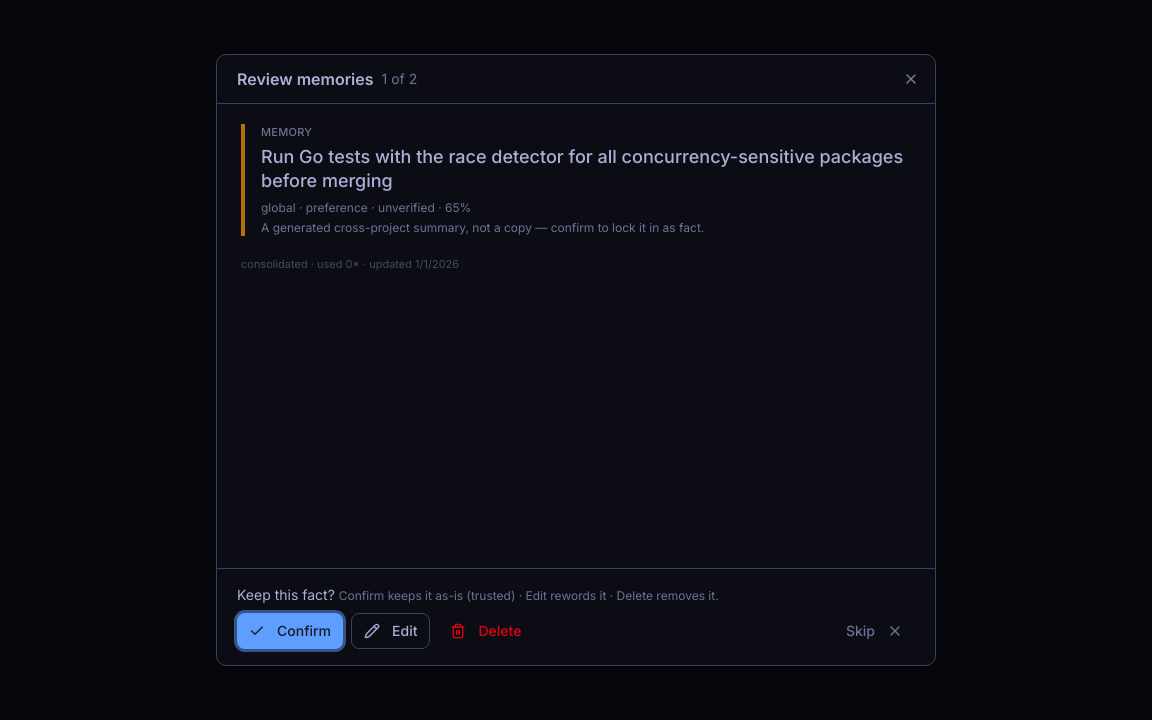
it: MemoryReview › shows full (untruncated) text, confirms, advances, and ends
Expected: the text "Run Go tests with the race detector for all concurrency-sensitive packages before merging" is shown, [261,146,903,191]
Expected: the text "1 of 2" is shown, [382,69,417,89]
Click the button "Confirm".
click(290, 631)  # box [237,613,343,649]
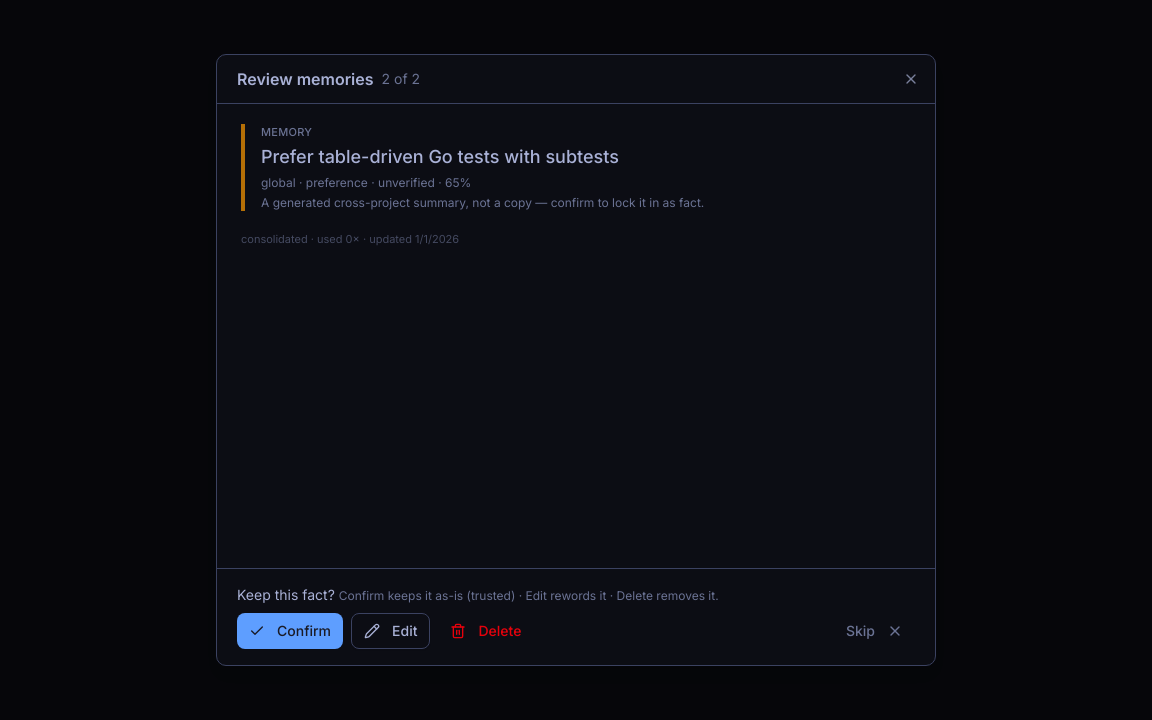
Result: the text "2 of 2" is shown at [382,69,420,89]
Click the button "Confirm".
click(290, 631)  # box [237,613,343,649]
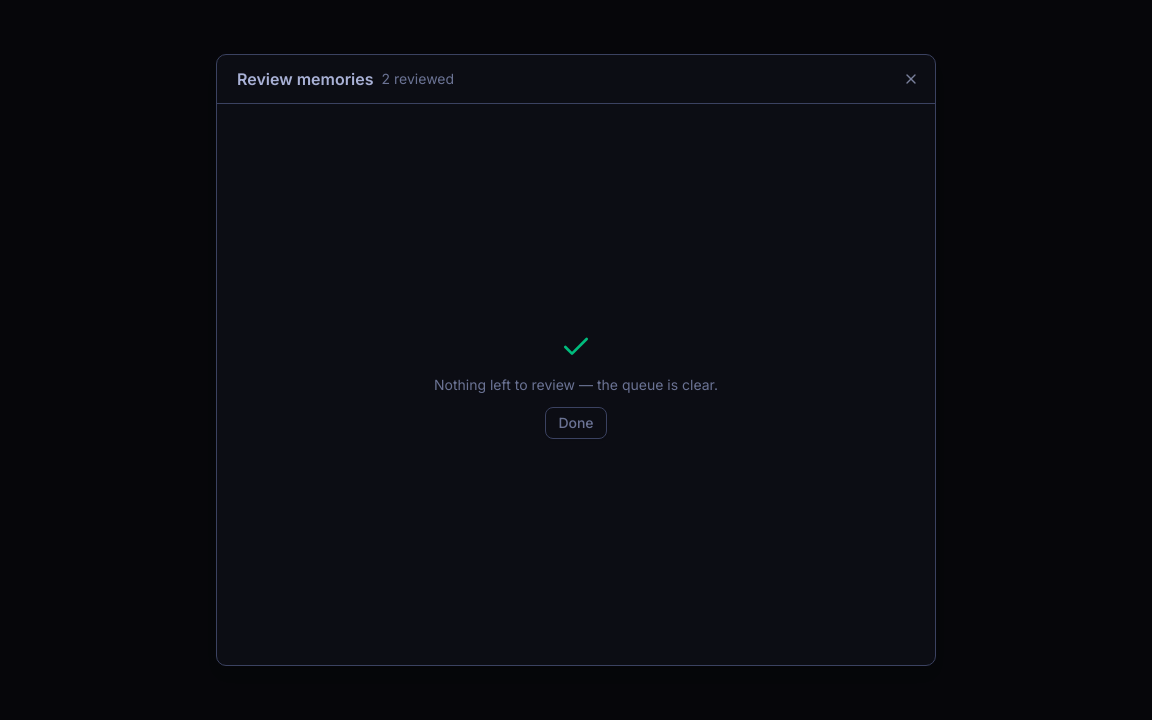
Result: the text "Nothing left to review — the queue is clear. Done" is shown at [434,330,718,438]
